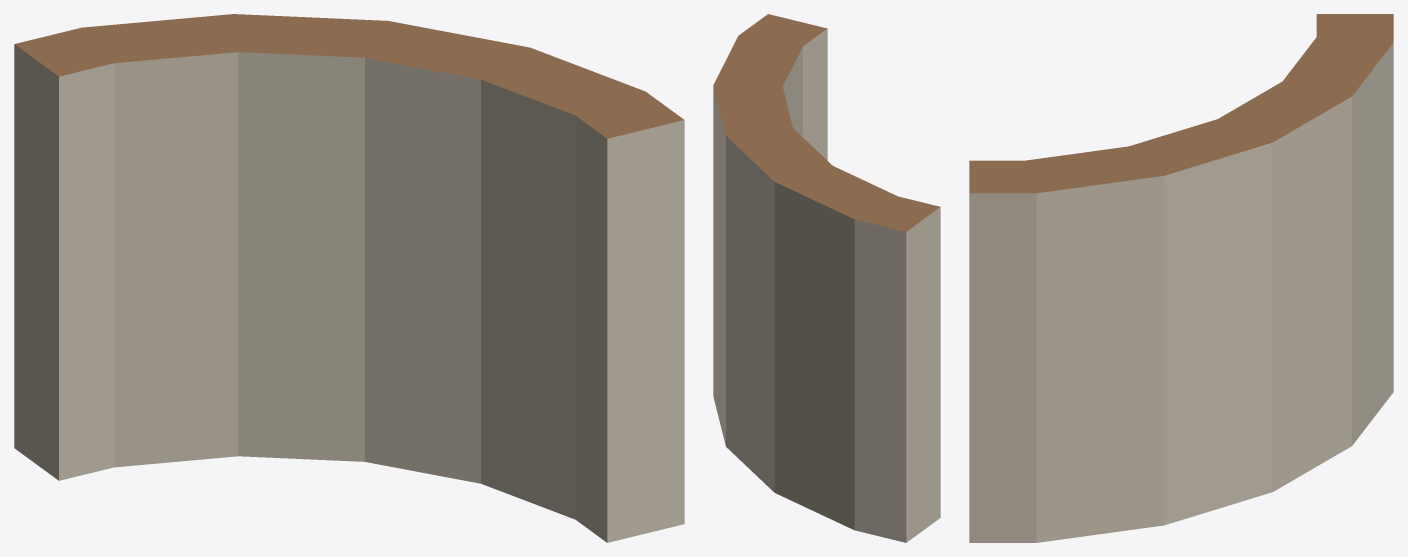
The model's file is Wall_Curved_Small_Main.obj.
The picture shows the model from 3 angles, left to right: view 1: azimuth 30°, elevation 25°; view 2: azimuth 150°, elevation 25°; view 3: azimuth 270°, elevation 25°; orthographic projection. The views are drawn at different scales.
Visible parts, largest first — view 1: object1; view 2: object1; view 3: object1.
Part boxes in pixels (x1,y1,x2,y2): object1: (14, 14, 684, 542); object1: (713, 14, 940, 542); object1: (969, 14, 1393, 542).
Bounding box in the file's own units: 1.1 × 1 × 1.1.
